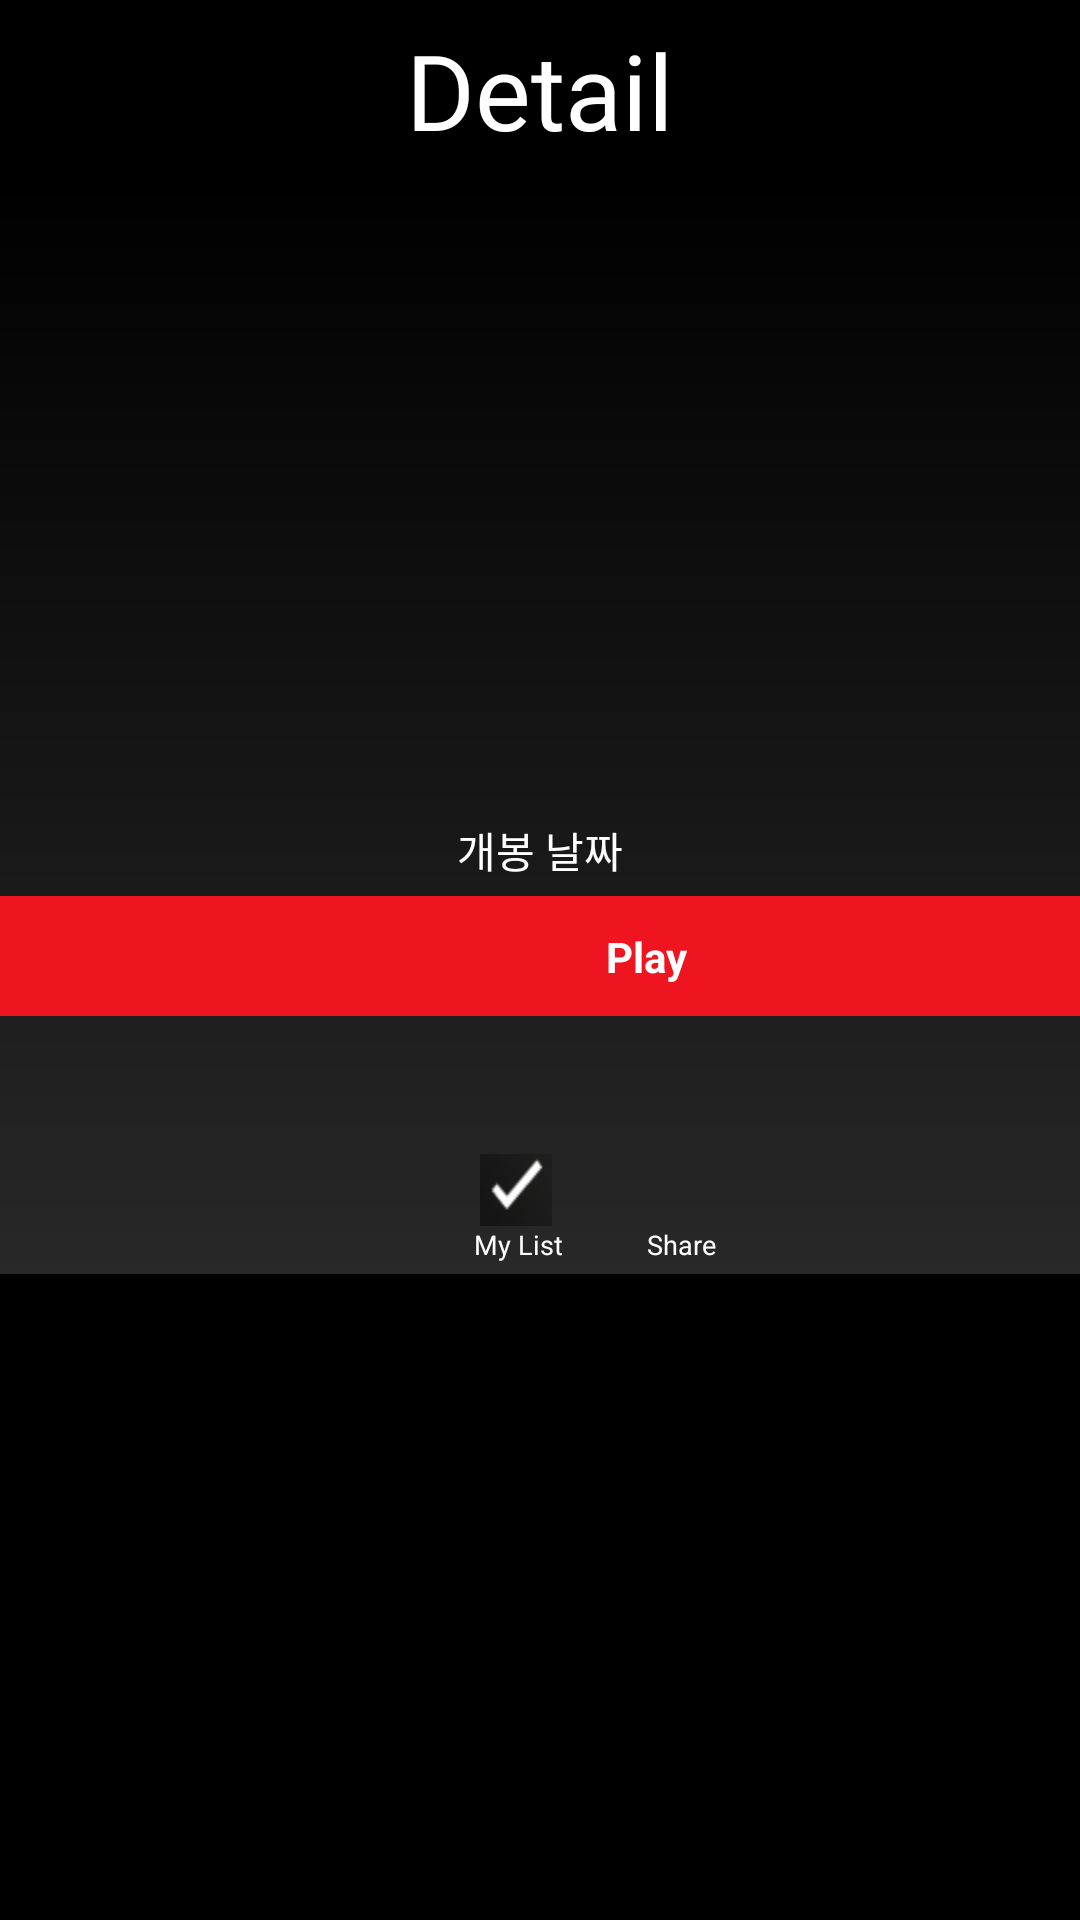

Named icons in this screenshot (1080 × 1920) and their bounding boxes, box(x1, y1, x2, y2):
check: box(480, 1154, 552, 1226)
